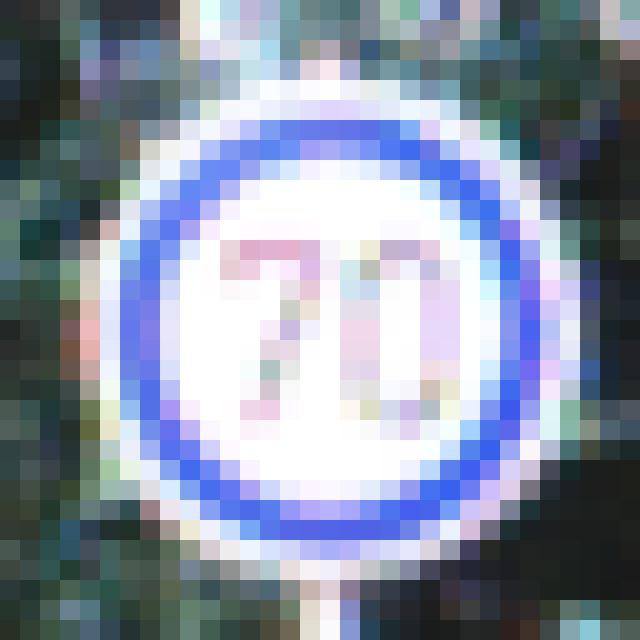SPEED LIMIT 70: (99, 107, 566, 587)
